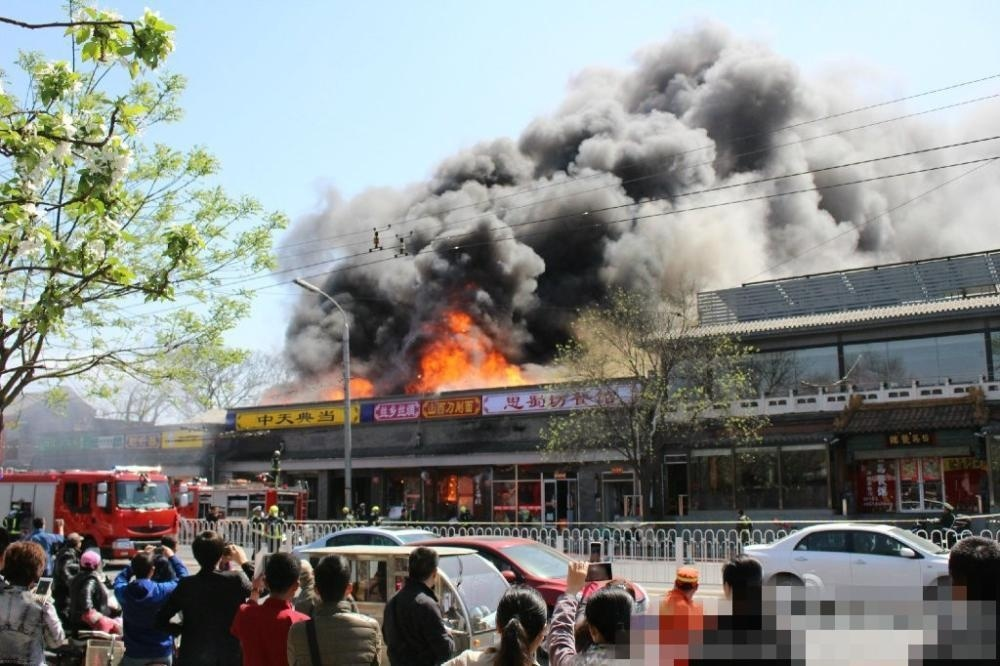fire: (407, 306, 524, 398), (325, 374, 376, 406), (443, 471, 471, 505)
